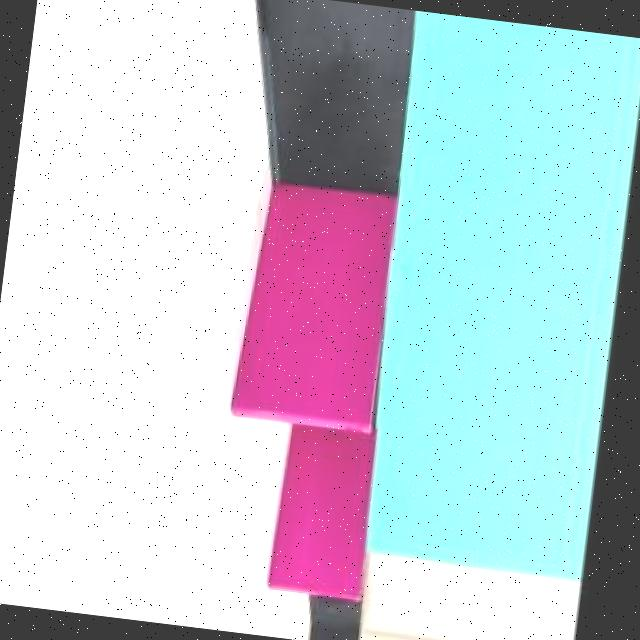xparking: (232, 184, 398, 429), (268, 428, 379, 599)
